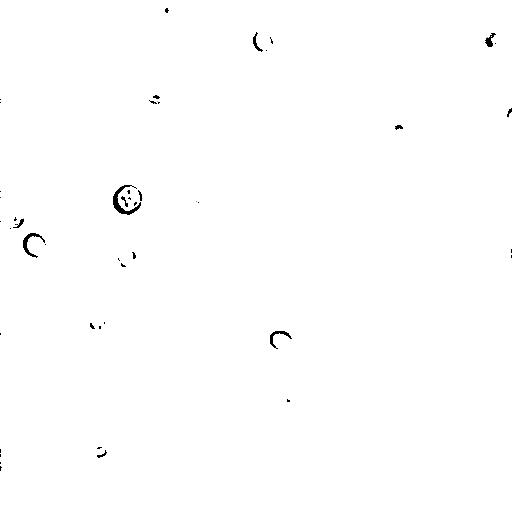micro-algae: (1, 281, 62, 356), (47, 6, 93, 53), (471, 17, 511, 60), (111, 182, 145, 216), (39, 230, 73, 263), (387, 113, 415, 146), (444, 43, 474, 73), (22, 231, 47, 258), (267, 330, 295, 352), (187, 198, 214, 220), (115, 246, 137, 269), (282, 384, 301, 409), (254, 29, 273, 53), (439, 12, 457, 37), (88, 310, 107, 332), (155, 1, 174, 20), (5, 212, 24, 229), (91, 445, 110, 459), (504, 106, 512, 130), (2, 449, 9, 472)
